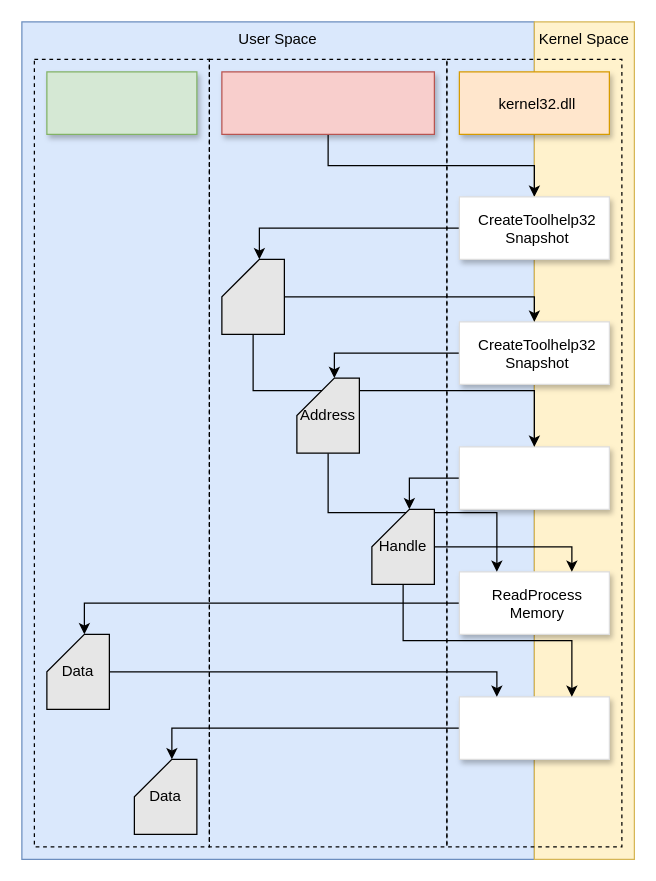
This 656x881 diagram has some shape labels left out. The centre of each missing label's shape, as x and y in pixels:
"csgo.exe" belongs at [122,104].
"gohack.exe" belongs at [329,104].
"OpenProcess" belongs at [535,479].
"Pid" belongs at [252,296].
"WriteProcess Memory" belongs at [535,729].
